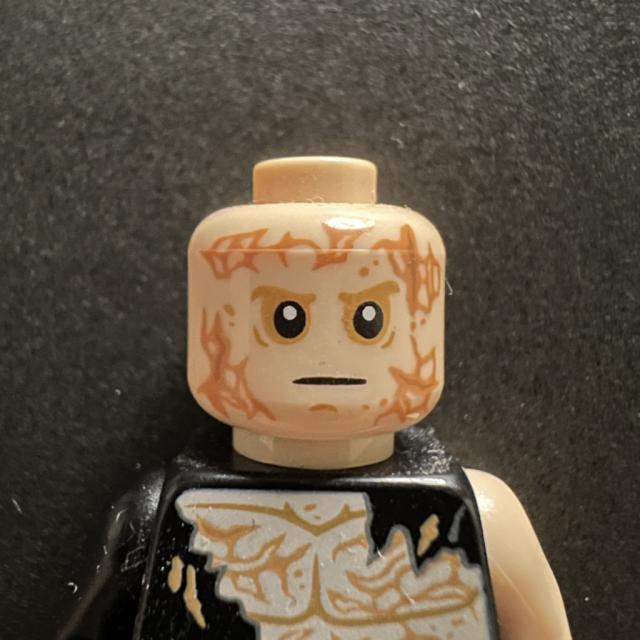alien: (174, 140, 462, 464)
